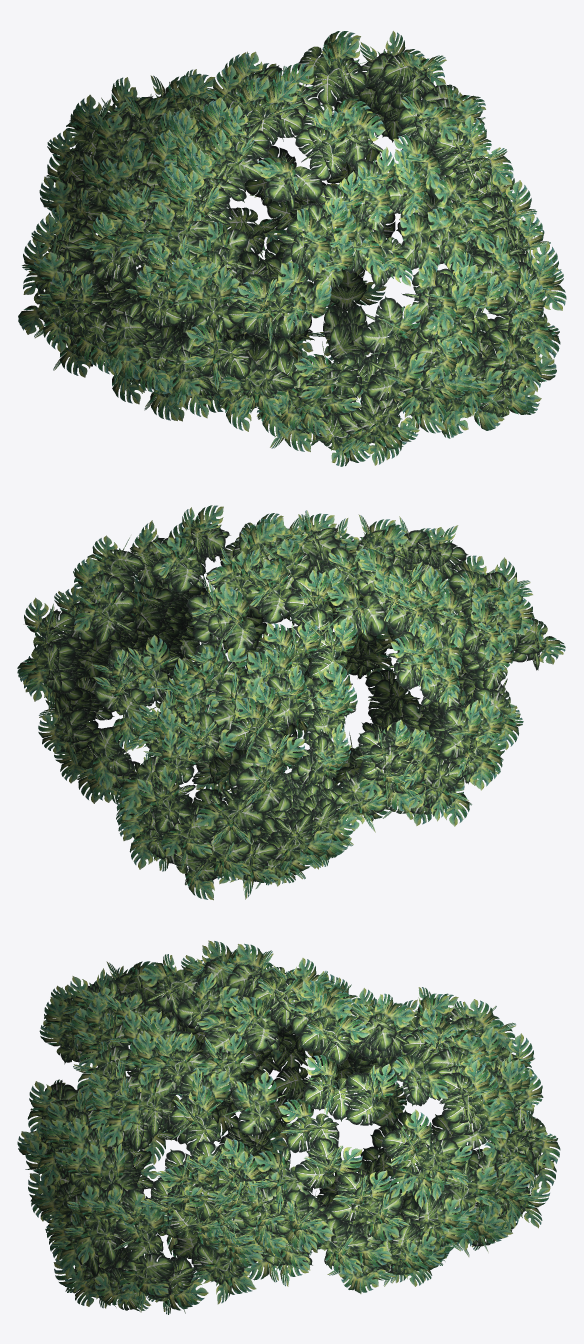
File: Tree1Top.fbx
The picture shows the model from 3 angles, top to bottom: view 1: azimuth 30°, elevation 25°; view 2: azimuth 150°, elevation 25°; view 3: azimuth 270°, elevation 25°; orthographic projection. The views are drawn at different scales.
Parts seen in each view (by area): view 1: Leaves1; view 2: Leaves1; view 3: Leaves1.
Part boxes in pixels (x1=…): Leaves1: x1=18, y1=31, x2=566, y2=466; Leaves1: x1=17, y1=505, x2=565, y2=900; Leaves1: x1=17, y1=940, x2=560, y2=1314.
Bounding box in the file's own units: 30.21 × 20.4 × 32.56.
